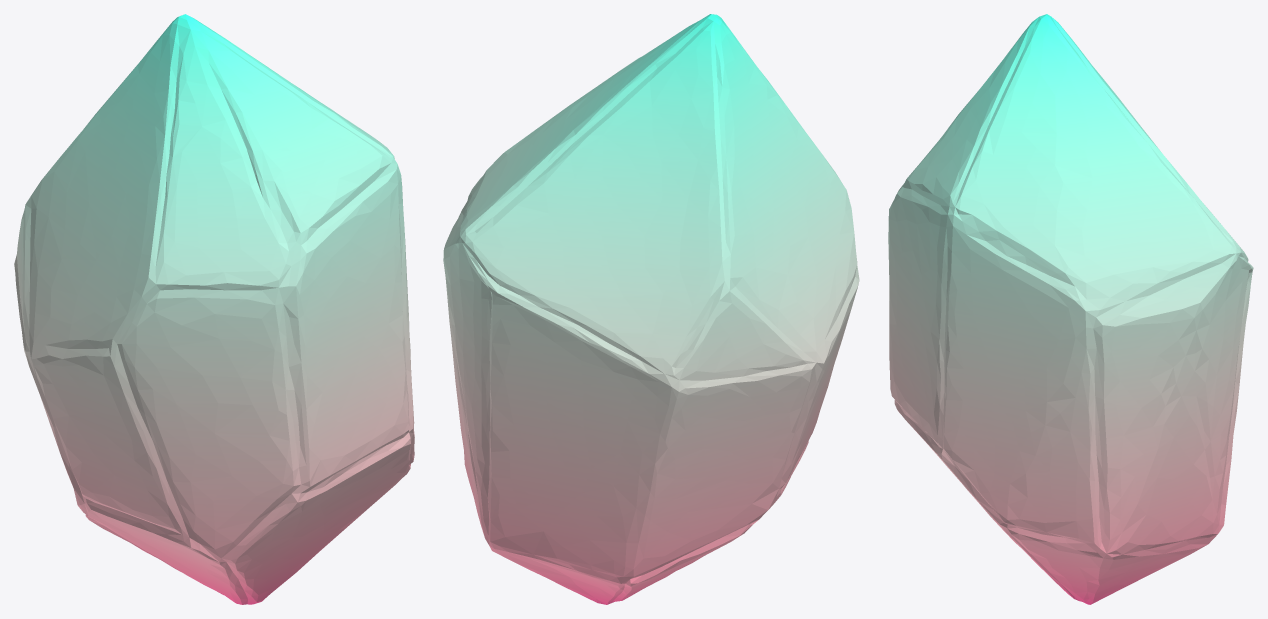
File: 150_cyb_laser_gradient_fish_scales_2852_2026_10_03_bacb97.glb
3 views of the same model, side by side, from view 1: azimuth 30°, elevation 25°; view 2: azimuth 150°, elevation 25°; view 3: azimuth 270°, elevation 25° (orthographic). The views are drawn at different scales.
Visible parts, largest first — view 1: geometry_0; view 2: geometry_0; view 3: geometry_0.
Part boxes in pixels (x1,y1,x2,y2): geometry_0: (14, 14, 414, 604); geometry_0: (443, 14, 859, 604); geometry_0: (888, 14, 1253, 604).
Size of the model in its own units: 0.5743 by 0.9347 by 0.5612.
